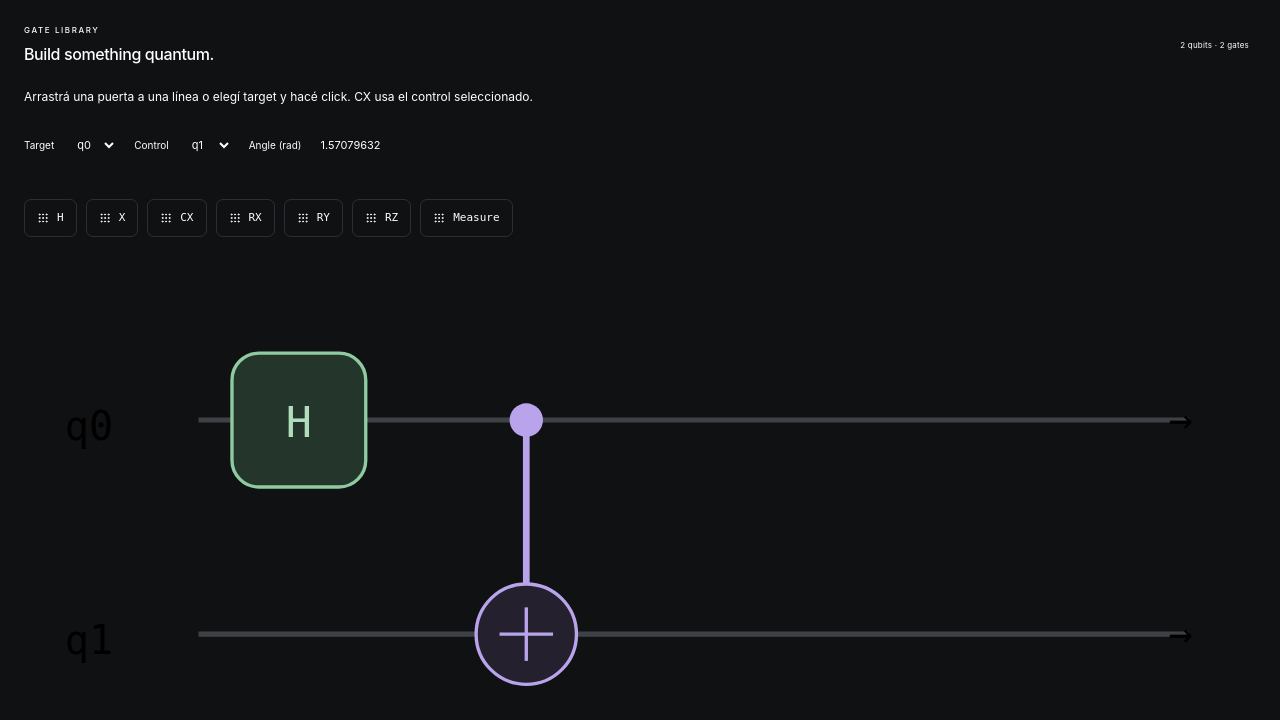
interactive learning components › rejects a CX control equal to its target before appending
Select "q0" in the dropdown labelled "Control" at (205, 145), box [178,129,232,161]
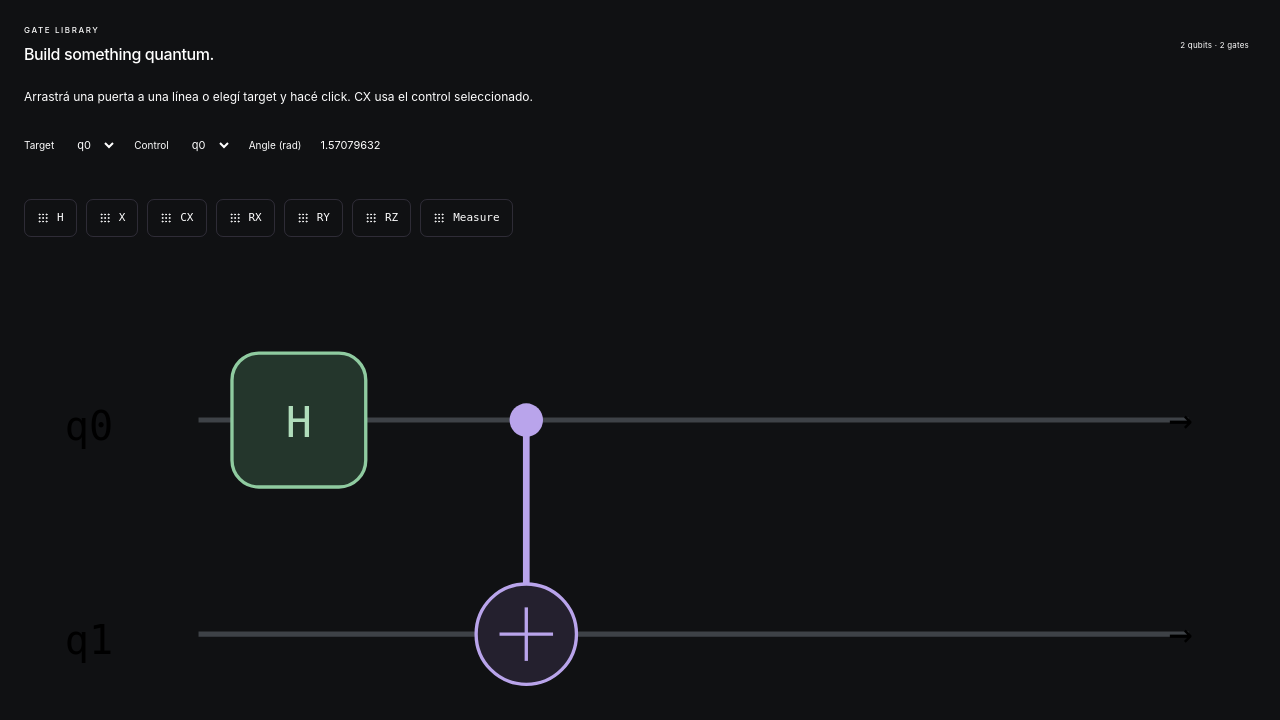
Click the button "CX" at (177, 218), box [147,199,207,237]
(page scrolled)
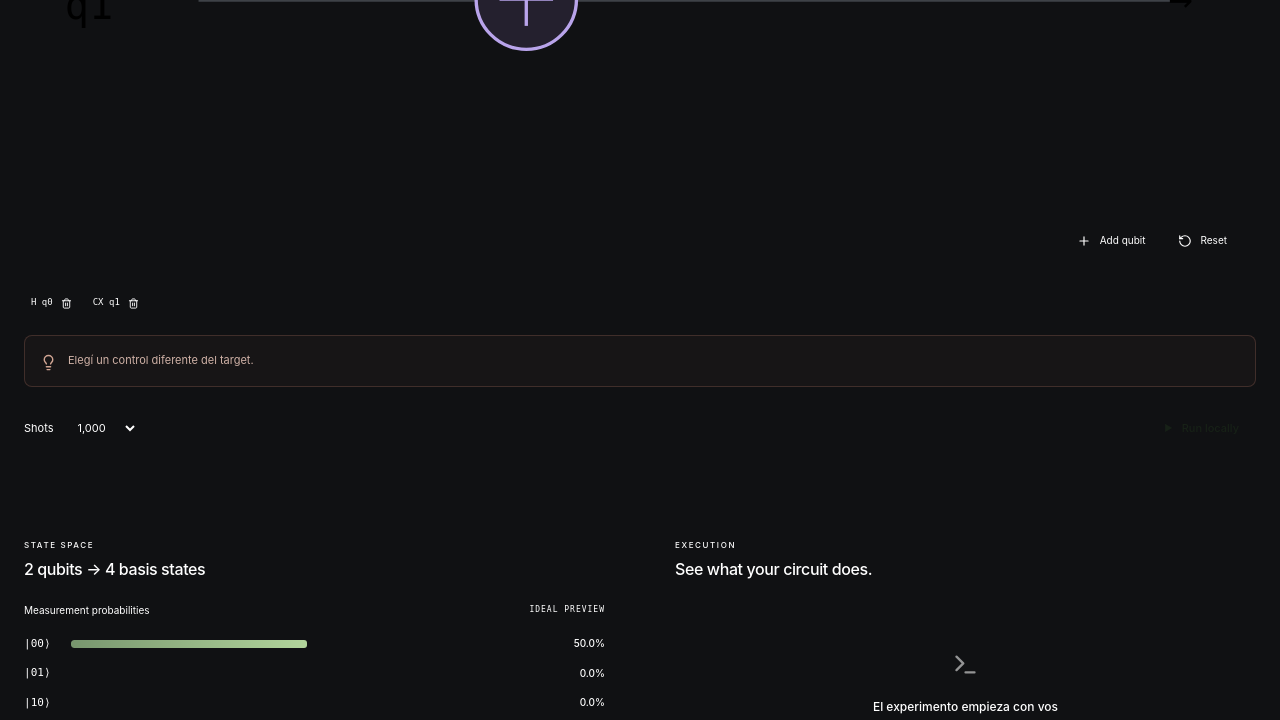
Check: the message shows "control diferente", box [68,353,254,367]
